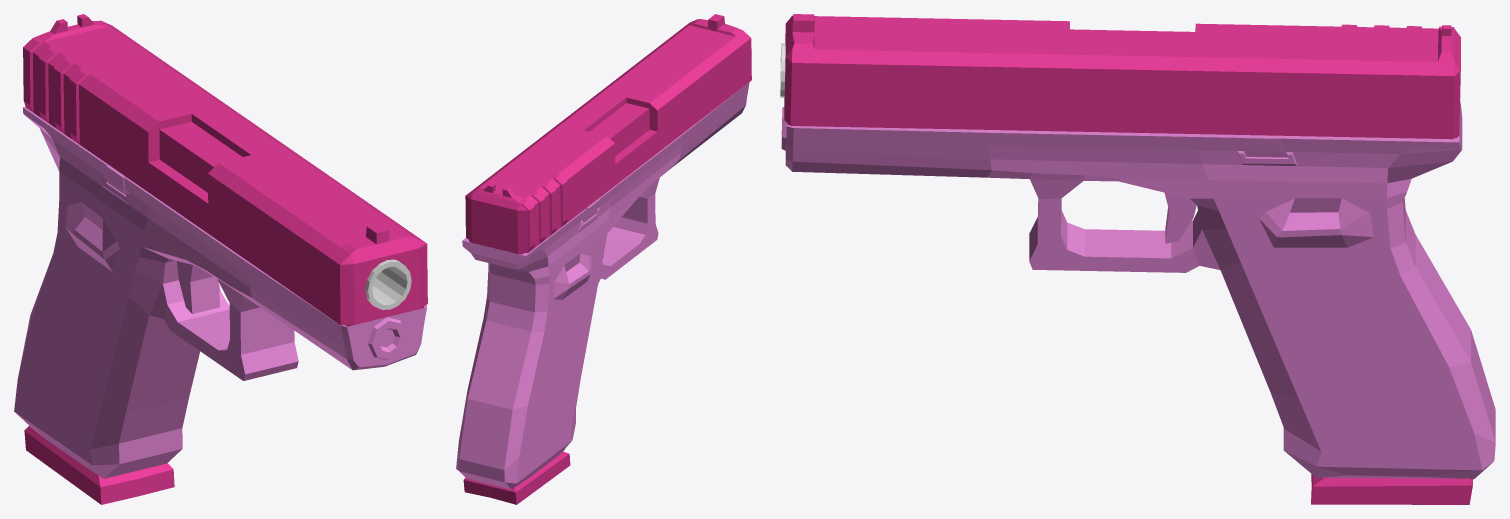
Rendered from new glock sven.fbx.
The picture shows the model from 3 angles, left to right: view 1: azimuth 30°, elevation 25°; view 2: azimuth 150°, elevation 25°; view 3: azimuth 270°, elevation 25°; orthographic projection. The views are drawn at different scales.
Visible parts, largest first — view 1: Glock_20; view 2: Glock_20; view 3: Glock_20.
Boxes of the visible parts, x1,y1,x2,y2 form: Glock_20: (14, 14, 427, 504); Glock_20: (456, 14, 751, 504); Glock_20: (780, 14, 1495, 504).
Size of the model in its own units: 171 by 738 by 1021.
